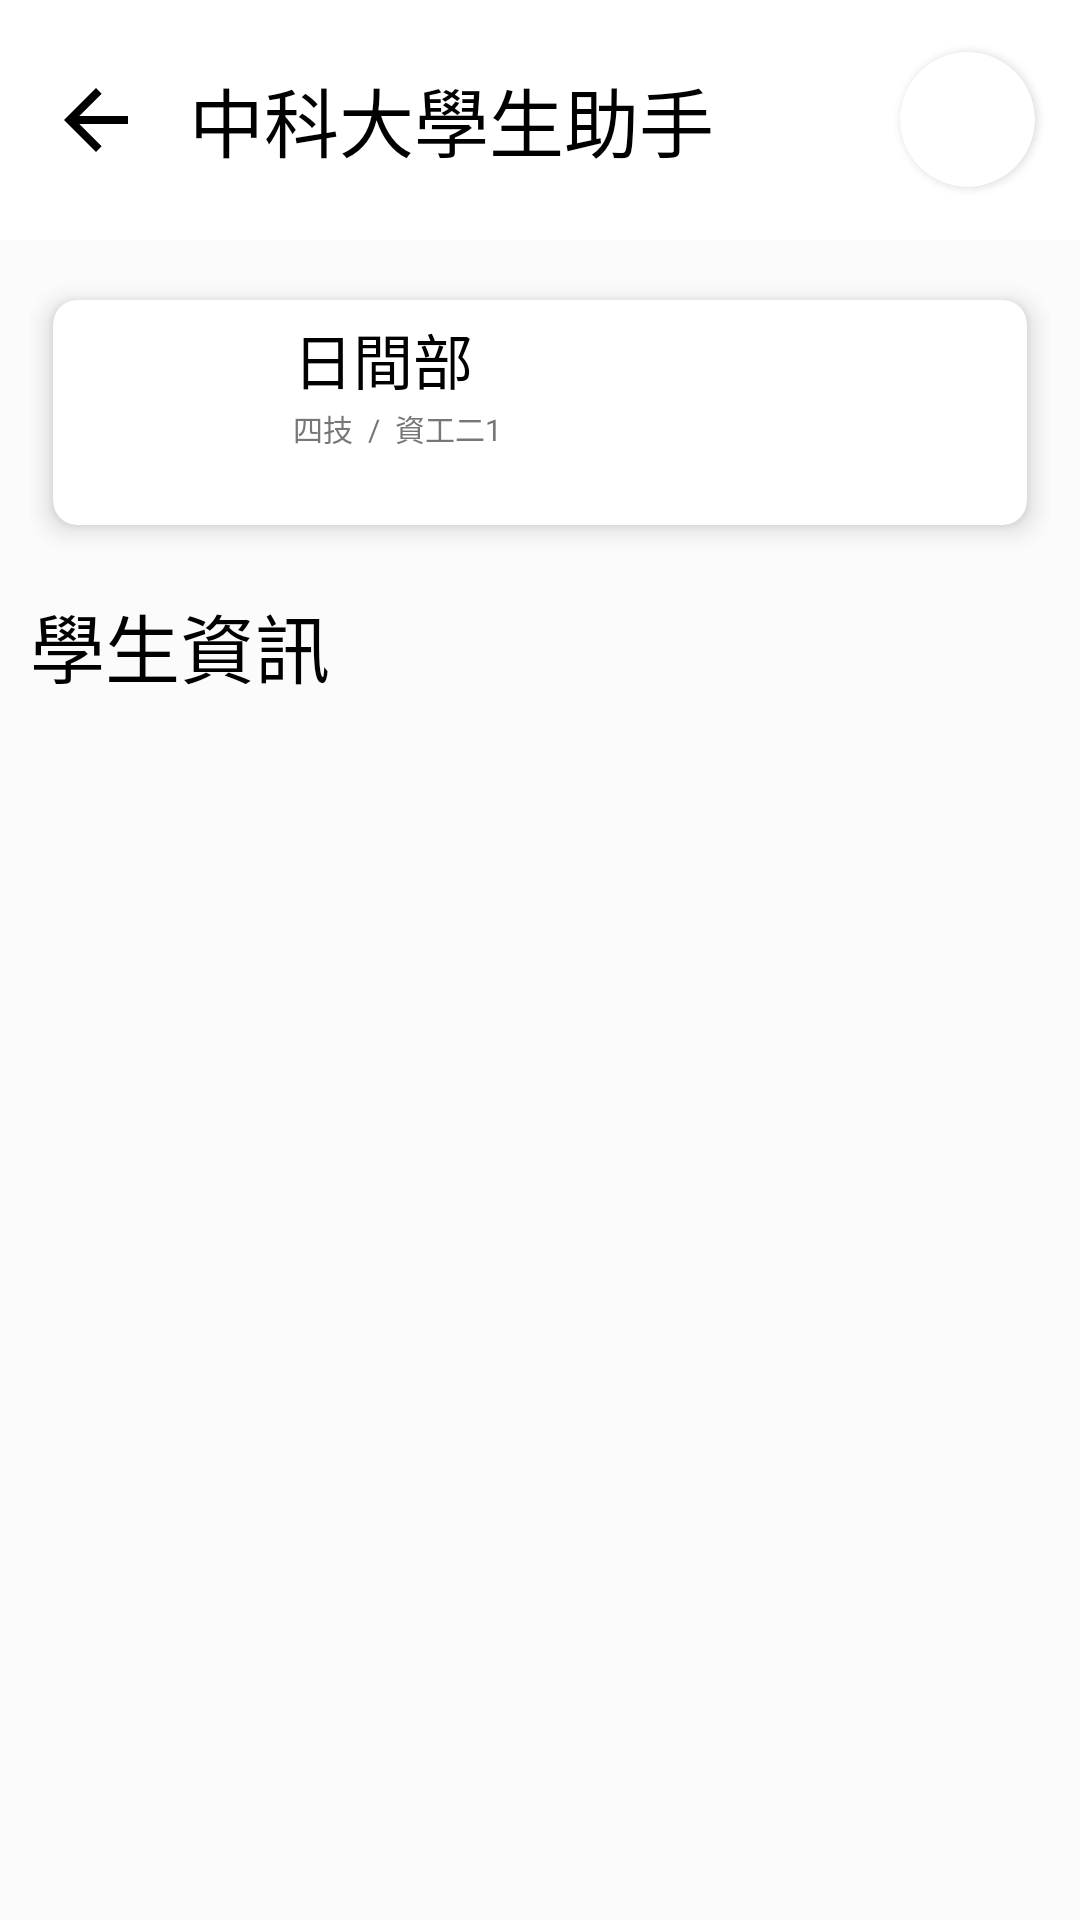

Screen size 1080x1920. Icon name, then its box in pixels as [left=x1, top=y1, right=x2, bottom=y2]:
back: [left=64, top=88, right=128, bottom=152]
